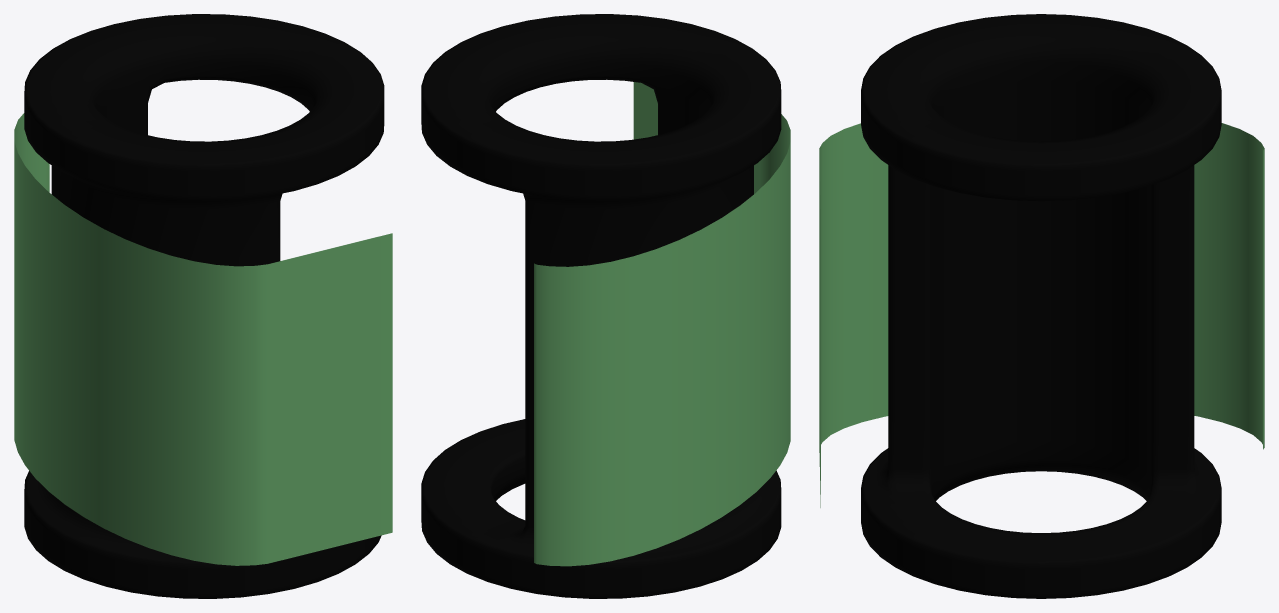
File: Exit_pipe.fbx
3 renders of one model, left to right at view 1: azimuth 30°, elevation 25°; view 2: azimuth 150°, elevation 25°; view 3: azimuth 270°, elevation 25°, orthographic.
Visible parts, largest first — view 1: polySurface2, exit_pipe; view 2: exit_pipe, polySurface2; view 3: exit_pipe, polySurface2.
Part boxes in pixels (box(x1,y1,x2,y2)): polySurface2: box(14, 113, 392, 565); exit_pipe: box(24, 14, 384, 598); exit_pipe: box(421, 14, 781, 598); polySurface2: box(534, 82, 790, 566); exit_pipe: box(861, 14, 1221, 598); polySurface2: box(819, 123, 1264, 507).
Size of the model in its own units: 233 by 311 by 288.
